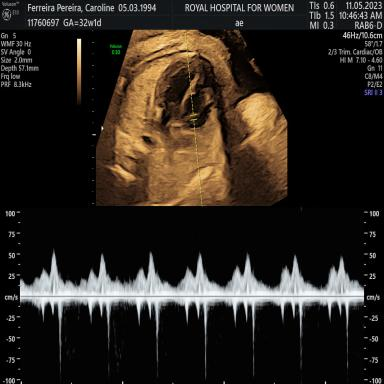Ultrasound-Waves: (26, 217, 363, 384)
